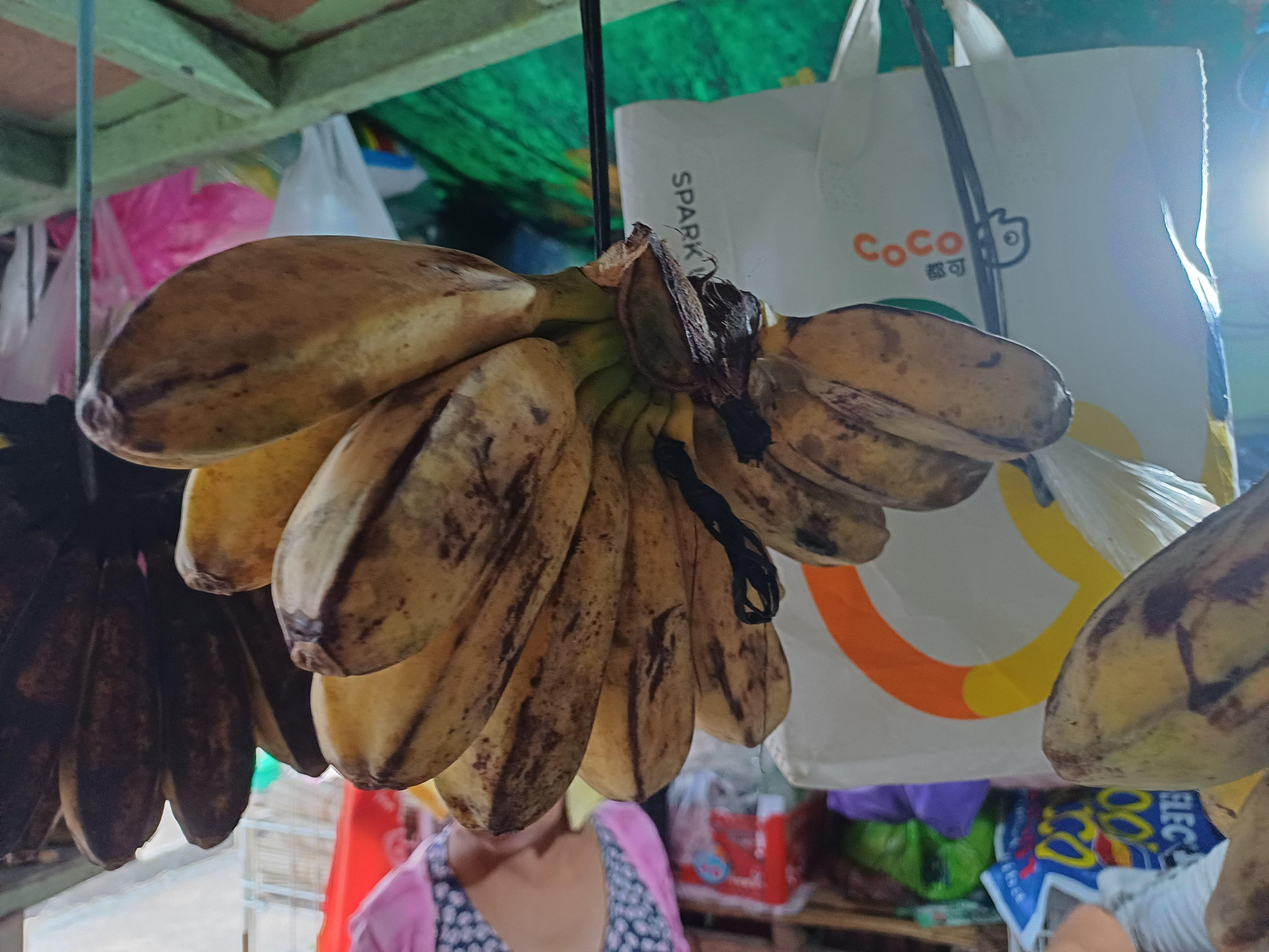overripe: (0, 548, 326, 869)
ripe: (81, 236, 789, 831), (693, 305, 1072, 566)
